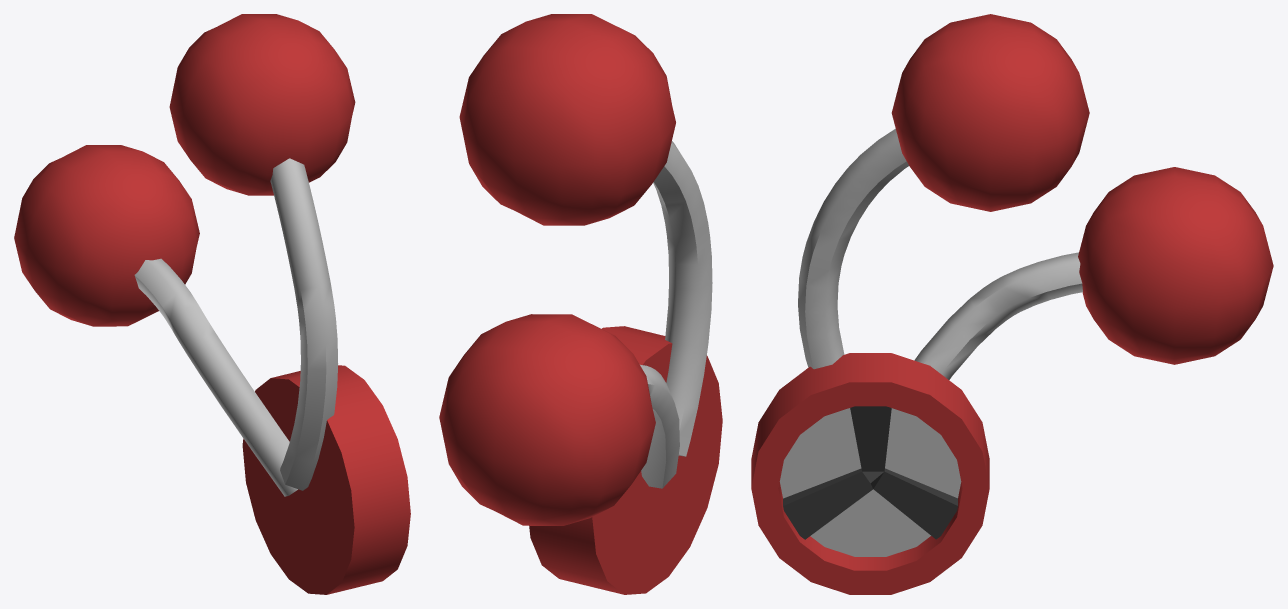
Rendered from Eliezer_sculpture_2.fbx.
The picture shows the model from 3 angles, left to right: view 1: azimuth 30°, elevation 25°; view 2: azimuth 150°, elevation 25°; view 3: azimuth 270°, elevation 25°; orthographic projection. The views are drawn at different scales.
Visible parts, largest first — view 1: KirschKugel_o, KirschKugel_u, Kreis, KStam_o, KStam_u; view 2: KirschKugel_o, KirschKugel_u, Kreis, KStam_o, KStam_u; view 3: KirschKugel_o, KirschKugel_u, Kreis, Symbol, KStam_o, Rotor, KStam_u.
Part boxes in pixels (box(x1,y1,x2,y2)): KirschKugel_o: box(169, 14, 355, 195); KirschKugel_u: box(14, 145, 199, 326); Kreis: box(242, 365, 410, 594); KStam_o: box(270, 158, 338, 490); KStam_u: box(134, 258, 297, 496); KirschKugel_o: box(459, 14, 675, 225); KirschKugel_u: box(439, 314, 655, 525); Kreis: box(529, 326, 722, 594); KStam_o: box(653, 141, 712, 456); KStam_u: box(640, 364, 679, 488); KirschKugel_o: box(891, 14, 1089, 211); KirschKugel_u: box(1078, 167, 1273, 364); Kreis: box(751, 353, 989, 594); Symbol: box(779, 408, 961, 556); KStam_o: box(798, 129, 908, 369); Rotor: box(783, 406, 957, 539); KStam_u: box(914, 252, 1082, 379).
Bounding box in the file's own units: 119 × 256 × 219.
